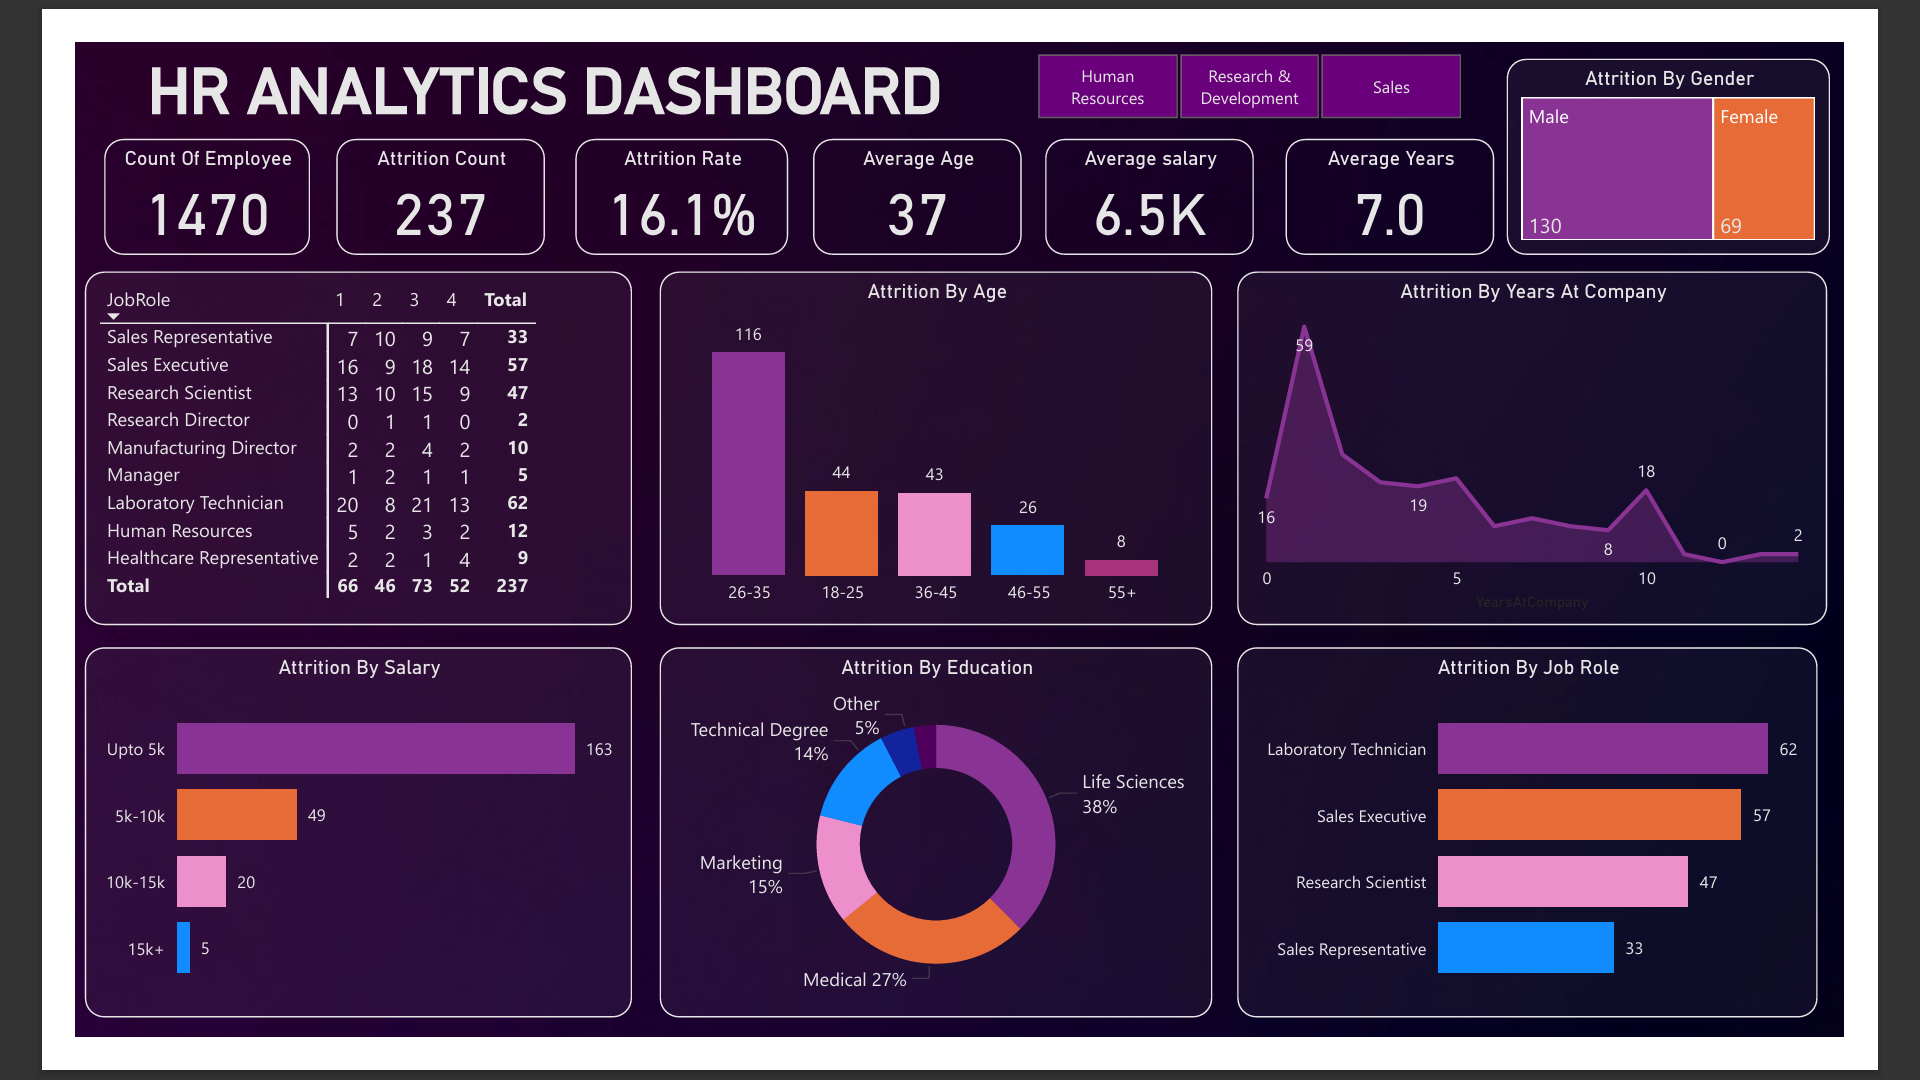

The page's visual inventory and layout, read from the dashboard file:
{"tool":"powerbi","page":{"name":"Page 1","canvas":[1280,720],"ordinal":0},"visuals":[{"type":"card","title":"Count Of Employee","fields":{"Values":["CountNonNull(HR_Analytics.EmpID)"]},"box":[20.5,70,149.6,84.5],"z":0},{"type":"card","title":"Attrition Count","fields":{"Values":["Sum(HR_Analytics.AttritionCount)"]},"box":[189.4,70,150.8,84.5],"z":1000},{"type":"card","title":"Attrition Rate","fields":{"Values":["HR_Analytics.AttritionRate"]},"box":[361.9,70,154.4,84.5],"z":2000},{"type":"card","title":"Average salary","fields":{"Values":["Avg(HR_Analytics.MonthlyIncome)"]},"box":[702.1,70,150.8,84.5],"z":3000},{"type":"card","title":"Average Years","fields":{"Values":["Avg(HR_Analytics.YearsAtCompany)"]},"box":[875.9,70,150.8,84.5],"z":4000},{"type":"card","title":"Average Age","fields":{"Values":["Avg(HR_Analytics.Age)"]},"box":[534.5,70,150.8,84.5],"z":5000},{"type":"donutChart","title":"Attrition By Education","fields":{"Category":["HR_Analytics.EducationField"],"Y":["Sum(HR_Analytics.AttritionCount)"]},"box":[423.5,437.9,399.3,267.8],"z":6000},{"type":"columnChart","title":"Attrition By Age","fields":{"Y":["Sum(HR_Analytics.AttritionCount)"],"Category":["HR_Analytics.AgeGroup"]},"box":[423.5,166.5,399.3,255.8],"z":7000},{"type":"barChart","title":"Attrition By Salary","fields":{"Y":["Sum(HR_Analytics.AttritionCount)"],"Category":["HR_Analytics.SalarySlab"]},"box":[7.2,437.9,395.7,267.8],"z":8000},{"type":"pivotTable","title":"n","fields":{"Columns":["HR_Analytics.JobSatisfaction"],"Rows":["HR_Analytics.JobRole"],"Values":["Sum(HR_Analytics.AttritionCount)"]},"box":[7.2,166.5,395.7,255.8],"z":9000},{"type":"areaChart","title":"Attrition By Years At Company","fields":{"Y":["Sum(HR_Analytics.AttritionCount)"],"Category":["HR_Analytics.YearsAtCompany"]},"box":[840.9,166.5,427.1,255.8],"z":10000},{"type":"barChart","title":"Attrition By Job Role","fields":{"Y":["Sum(HR_Analytics.AttritionCount)"],"Category":["HR_Analytics.JobRole"]},"box":[840.9,437.9,419.8,267.8],"z":11000},{"type":"shape","title":"HR ANALYTICS DASHBOARD","box":[7.2,8.4,666,53.1],"z":12000},{"type":"treemap","title":"Attrition By Gender","fields":{"Group":["HR_Analytics.Gender"],"Values":["Sum(HR_Analytics.AttritionCount)"]},"box":[1036.3,12.1,234,142.4],"z":13000},{"type":"slicer","fields":{"Values":["HR_Analytics.Department"]},"box":[670.8,2.4,355.9,59.1],"z":14000}]}

Visuals, with their boxes in screenshot pixels (x1, y1, x2, y2), scaled from the page's 1280x720 canvas onto the 1920x1080 screenshot:
"Count Of Employee" card: x1=31, y1=105, x2=255, y2=232
"Attrition Count" card: x1=284, y1=105, x2=510, y2=232
"Attrition Rate" card: x1=543, y1=105, x2=774, y2=232
"Average salary" card: x1=1053, y1=105, x2=1279, y2=232
"Average Years" card: x1=1314, y1=105, x2=1540, y2=232
"Average Age" card: x1=802, y1=105, x2=1028, y2=232
"Attrition By Education" donutChart: x1=635, y1=657, x2=1234, y2=1059
"Attrition By Age" columnChart: x1=635, y1=250, x2=1234, y2=633
"Attrition By Salary" barChart: x1=11, y1=657, x2=604, y2=1059
"n" pivotTable: x1=11, y1=250, x2=604, y2=633
"Attrition By Years At Company" areaChart: x1=1261, y1=250, x2=1902, y2=633
"Attrition By Job Role" barChart: x1=1261, y1=657, x2=1891, y2=1059
"HR ANALYTICS DASHBOARD" shape: x1=11, y1=13, x2=1010, y2=92
"Attrition By Gender" treemap: x1=1554, y1=18, x2=1905, y2=232
slicer - HR_Analytics.Department: x1=1006, y1=4, x2=1540, y2=92
